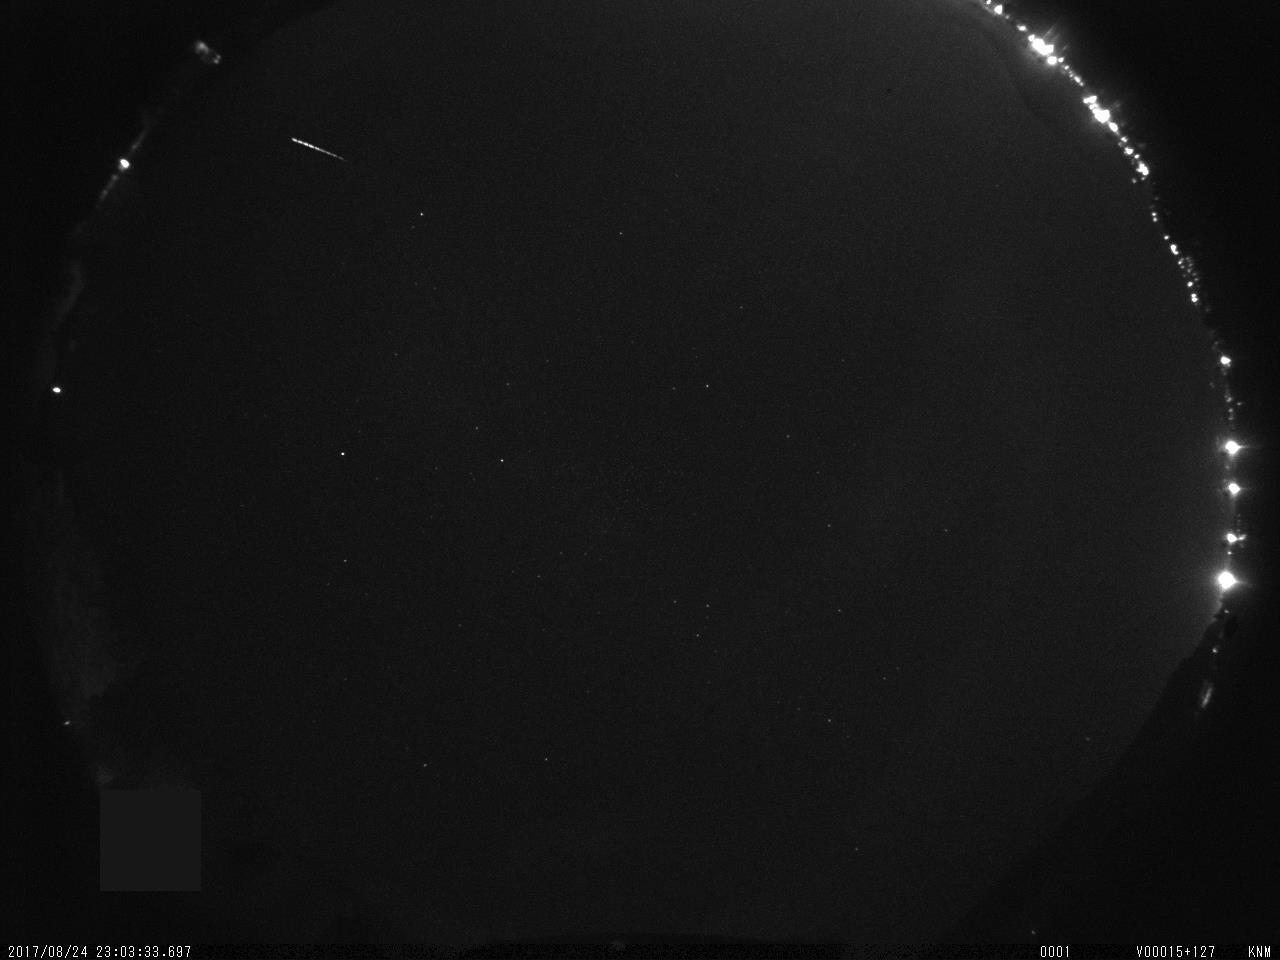Meteor: (288, 134, 346, 163)
